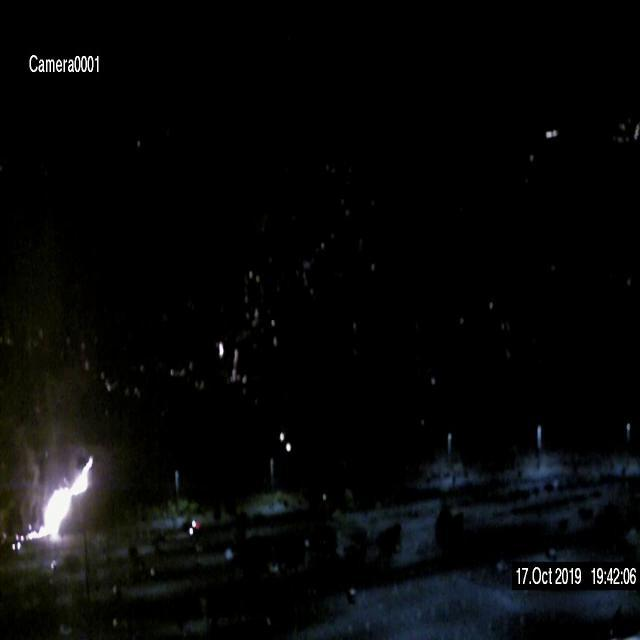Fire: (28, 458, 96, 548)
